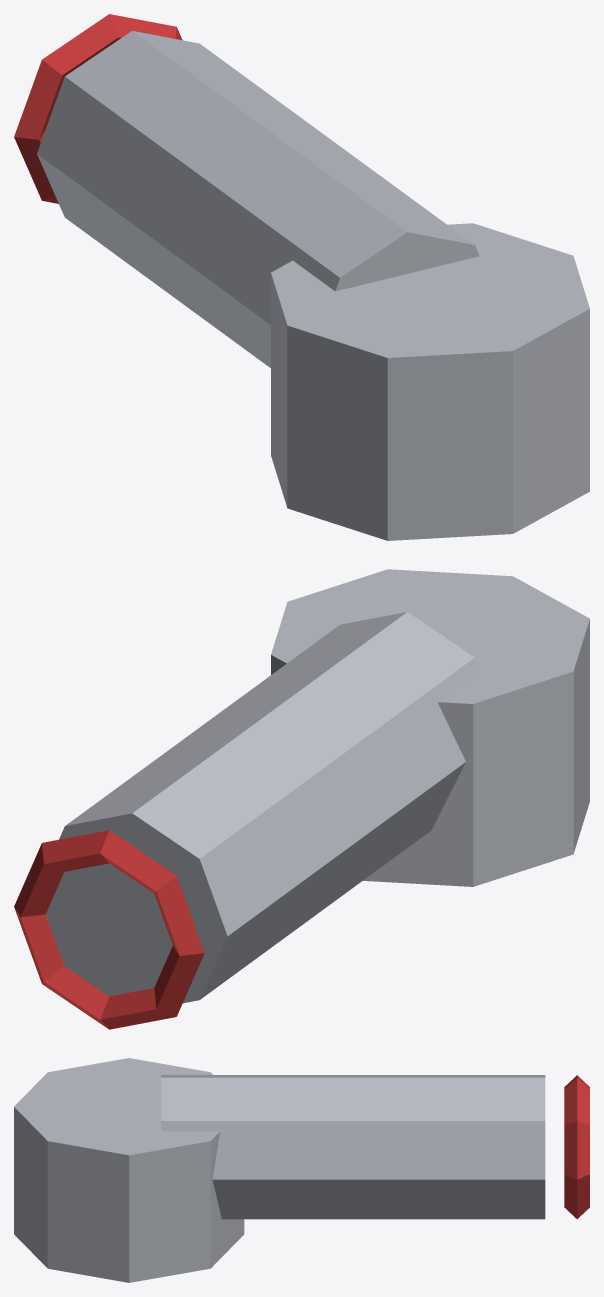
File: whistle.glb
The picture shows the model from 3 angles, top to bottom: view 1: azimuth 30°, elevation 25°; view 2: azimuth 150°, elevation 25°; view 3: azimuth 270°, elevation 25°; orthographic projection. The views are drawn at different scales.
Visible parts, largest first — view 1: whistle_tin (×2), cord_whistle_cord; view 2: whistle_tin (×2), cord_whistle_cord; view 3: whistle_tin (×2), cord_whistle_cord.
Boxes of the visible parts, x1=… form: whistle_tin (×2): x1=37, y1=31, x2=589, y2=540; cord_whistle_cord: x1=14, y1=14, x2=182, y2=203; whistle_tin (×2): x1=46, y1=569, x2=589, y2=1003; cord_whistle_cord: x1=14, y1=830, x2=204, y2=1029; whistle_tin (×2): x1=14, y1=1058, x2=545, y2=1282; cord_whistle_cord: x1=564, y1=1075, x2=589, y2=1219.
Size of the model in its own units: 0.036 by 0.027 by 0.09.
